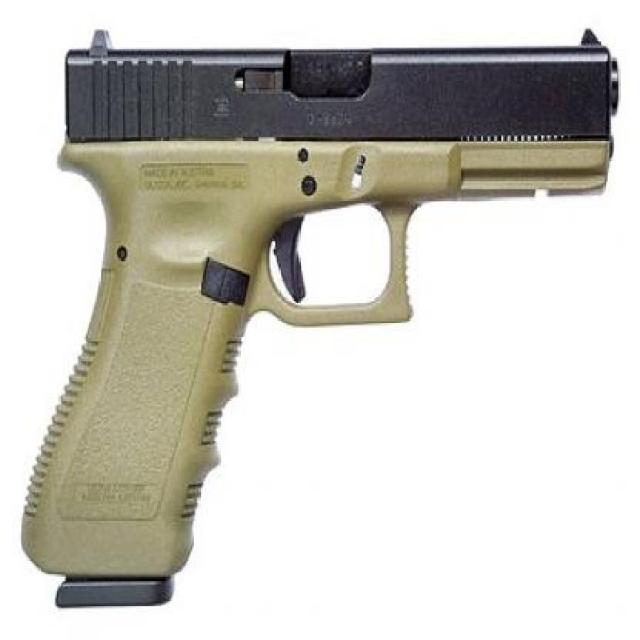gun: (4, 3, 627, 594)
